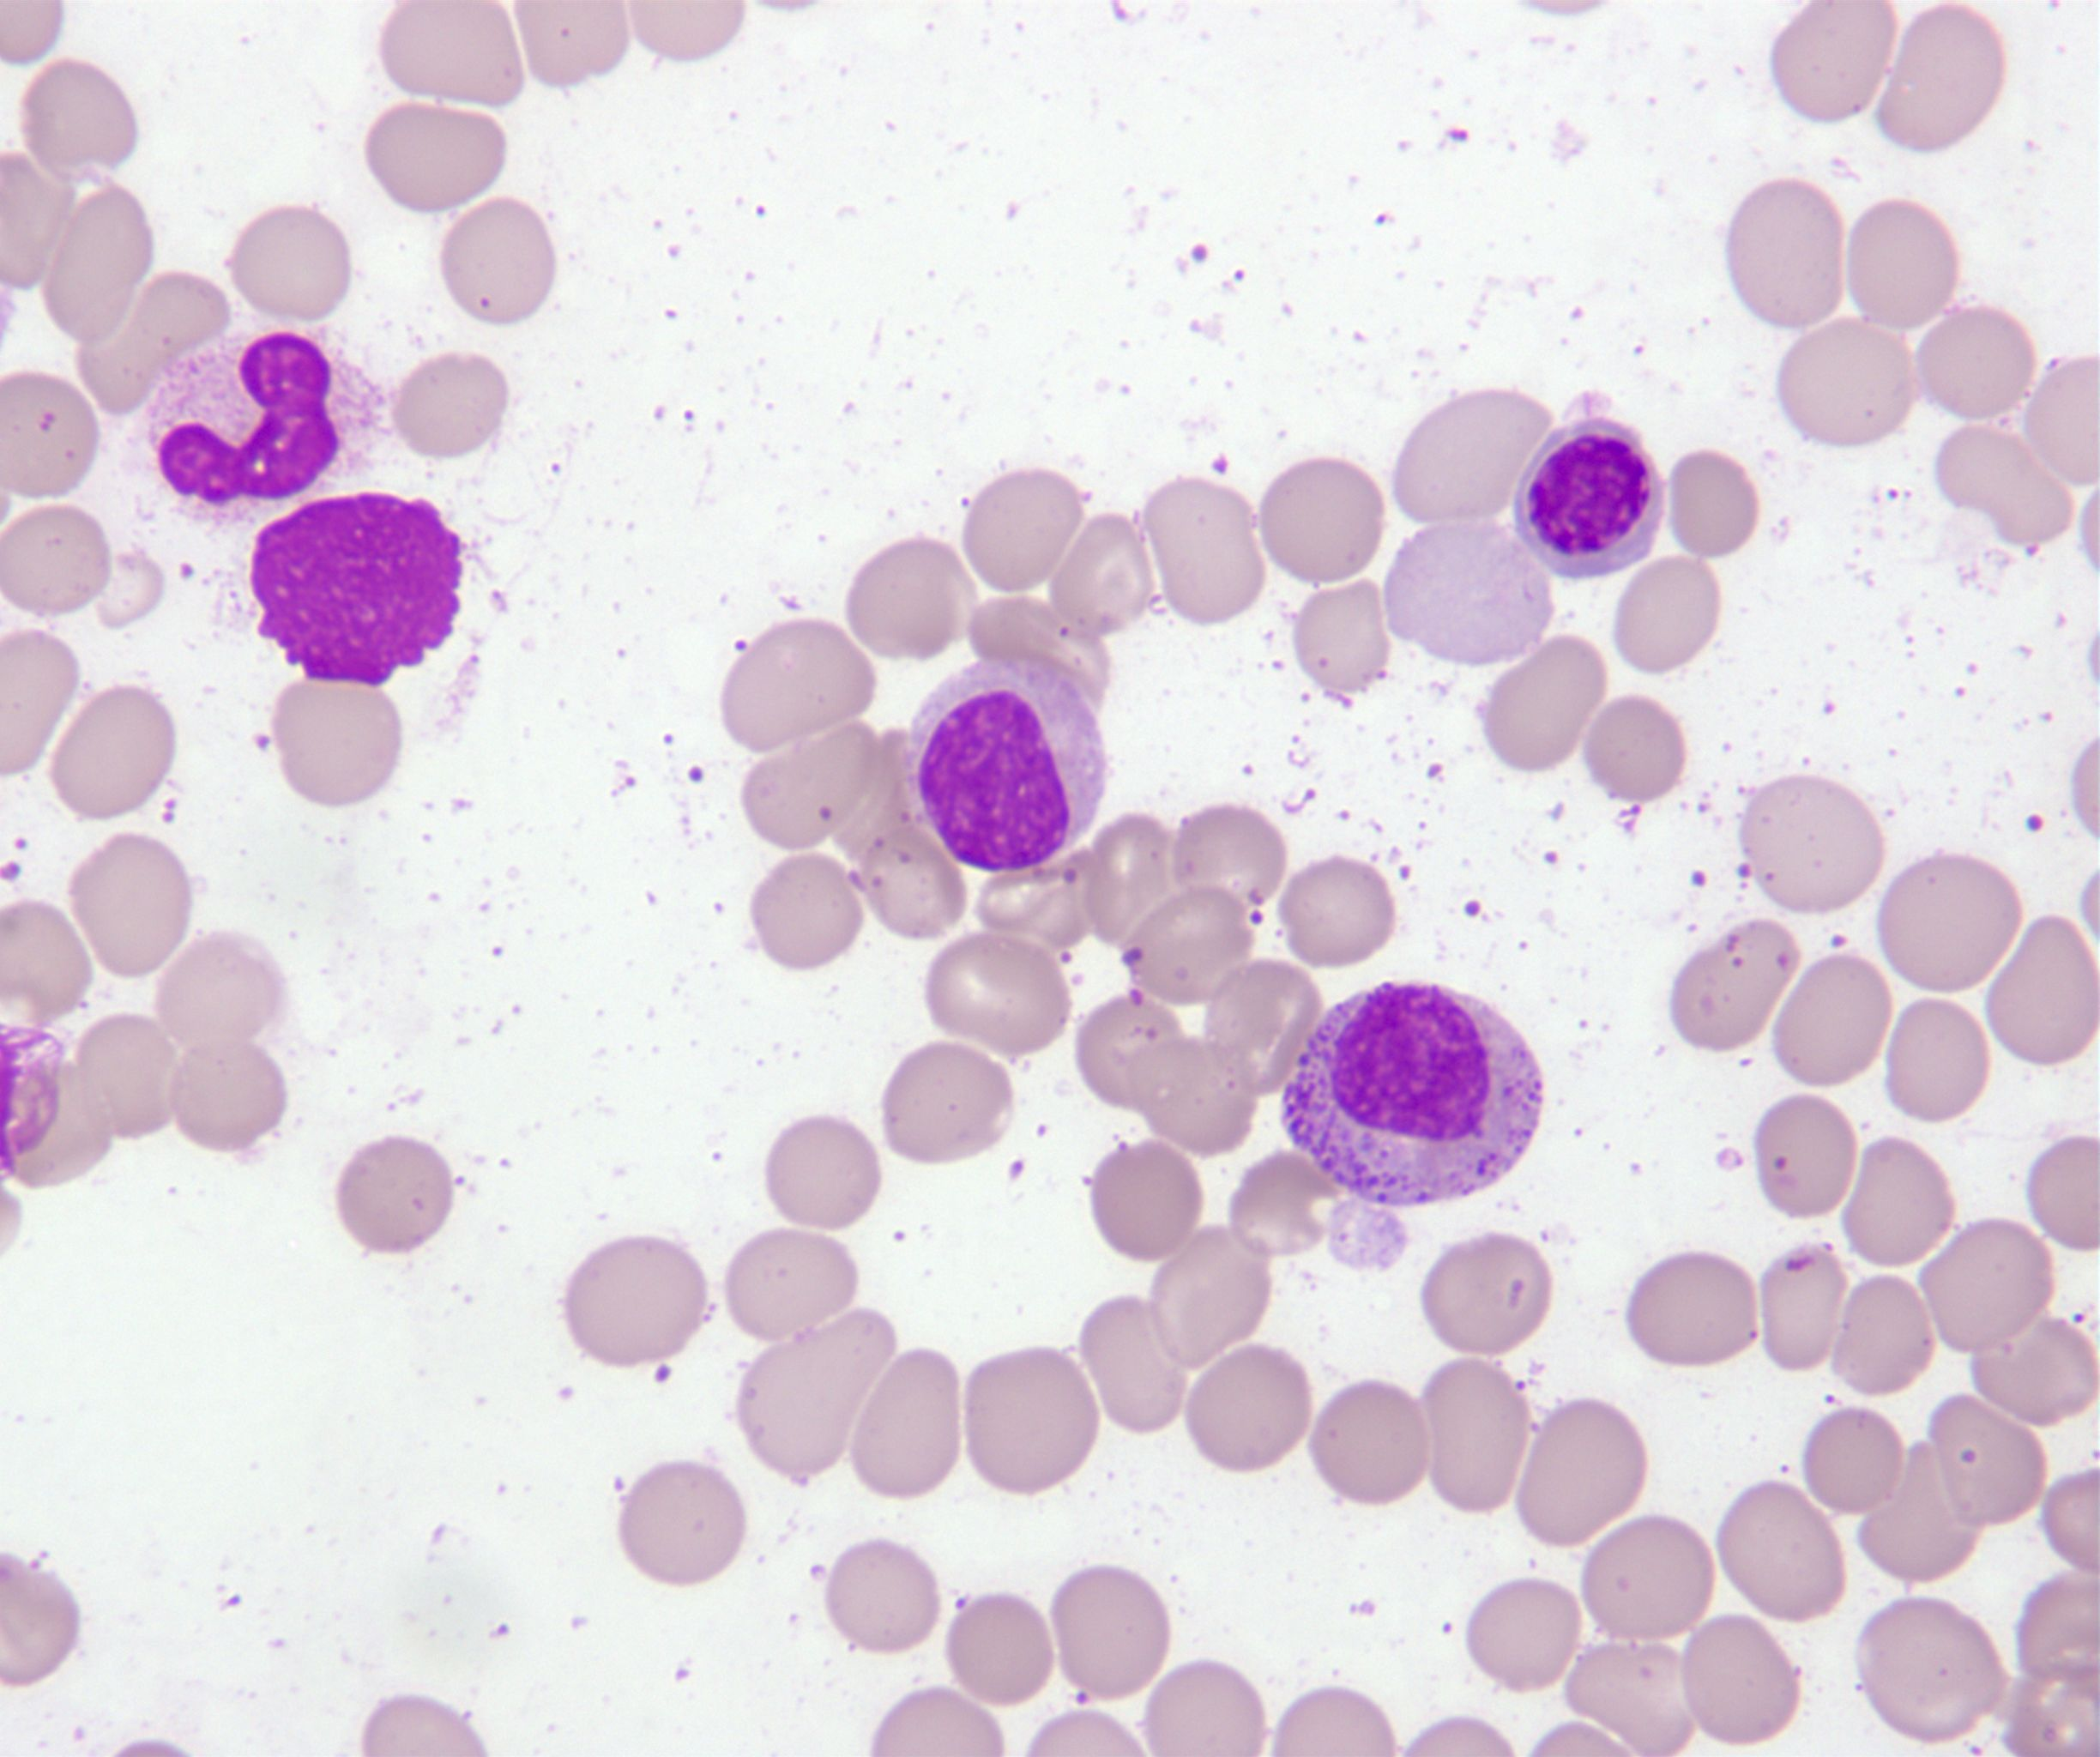24: (1516, 417, 1664, 579)
3: (1282, 982, 1542, 1206)
32: (897, 660, 1104, 872)
x: (141, 332, 387, 525), (249, 492, 460, 687)
